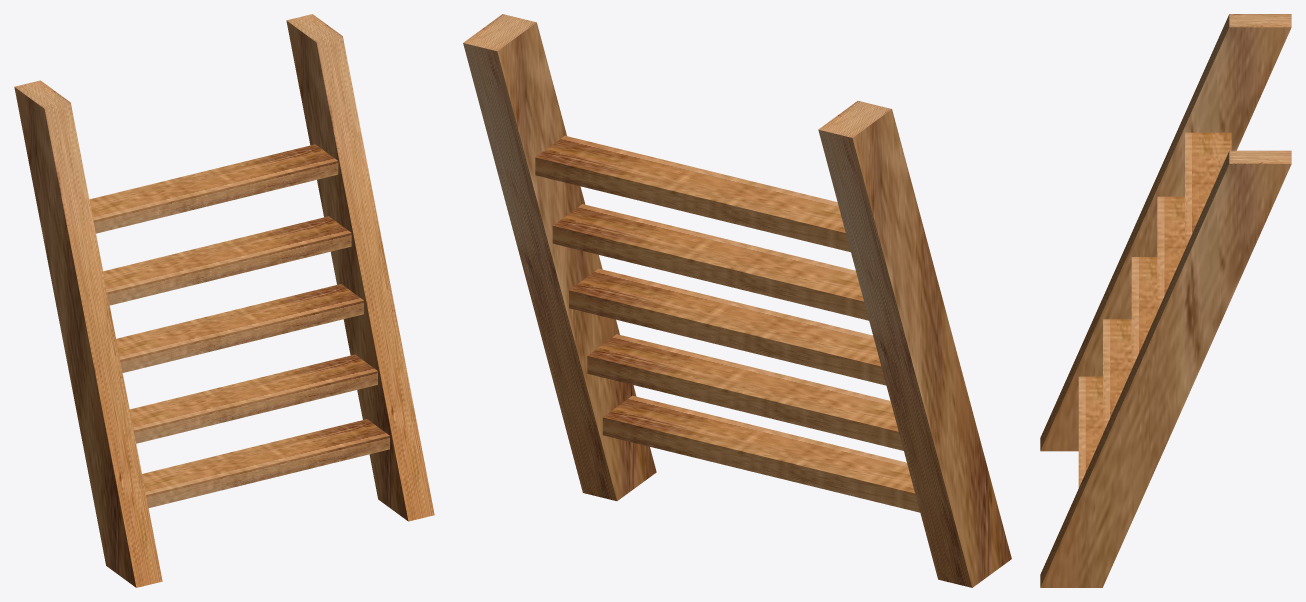
Rendered from ladder.fbx.
The picture shows the model from 3 angles, left to right: view 1: azimuth 30°, elevation 25°; view 2: azimuth 150°, elevation 25°; view 3: azimuth 270°, elevation 25°; orthographic projection. The views are drawn at different scales.
Visible parts, largest first — view 1: Cube.006; view 2: Cube.006; view 3: Cube.006.
Boxes of the visible parts, bbox=[...] form: Cube.006: bbox=[14, 14, 434, 587]; Cube.006: bbox=[463, 14, 1011, 587]; Cube.006: bbox=[1040, 14, 1291, 587].
Size of the model in its own units: 227 by 300 by 161.
1 material, 1 textured.
